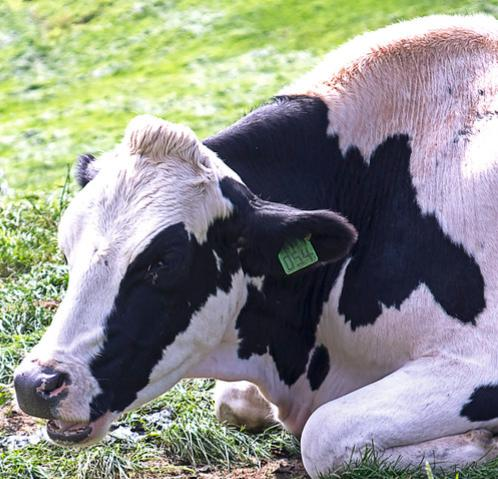cow: (17, 16, 498, 472)
